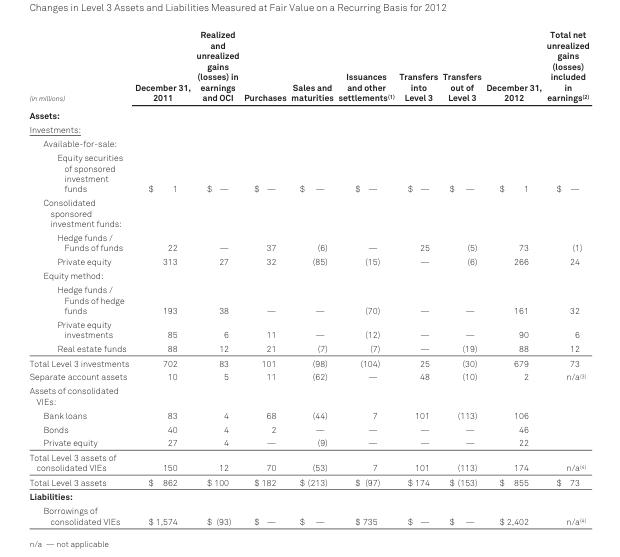table: (28, 28, 588, 526)
table column: (28, 28, 131, 526), (131, 28, 192, 526), (335, 28, 396, 526), (483, 28, 543, 526), (192, 28, 240, 526), (240, 28, 288, 526), (288, 28, 335, 526), (543, 28, 588, 526), (439, 28, 483, 526), (396, 28, 439, 526)
table column header: (28, 28, 588, 106)
table projected row header: (28, 195, 588, 230), (28, 383, 588, 407), (28, 106, 588, 122), (28, 488, 588, 503), (28, 122, 588, 136), (28, 136, 588, 150), (28, 268, 588, 282)
table row: (28, 28, 588, 106), (28, 150, 588, 195), (28, 195, 588, 230), (28, 282, 588, 317), (28, 449, 588, 474), (28, 230, 588, 254), (28, 317, 588, 341), (28, 383, 588, 407), (28, 503, 588, 526), (28, 106, 588, 122), (28, 488, 588, 503), (28, 122, 588, 136), (28, 136, 588, 150), (28, 254, 588, 268), (28, 268, 588, 282), (28, 341, 588, 355), (28, 355, 588, 369), (28, 369, 588, 383), (28, 407, 588, 421), (28, 421, 588, 435), (28, 435, 588, 449), (28, 474, 588, 488)
